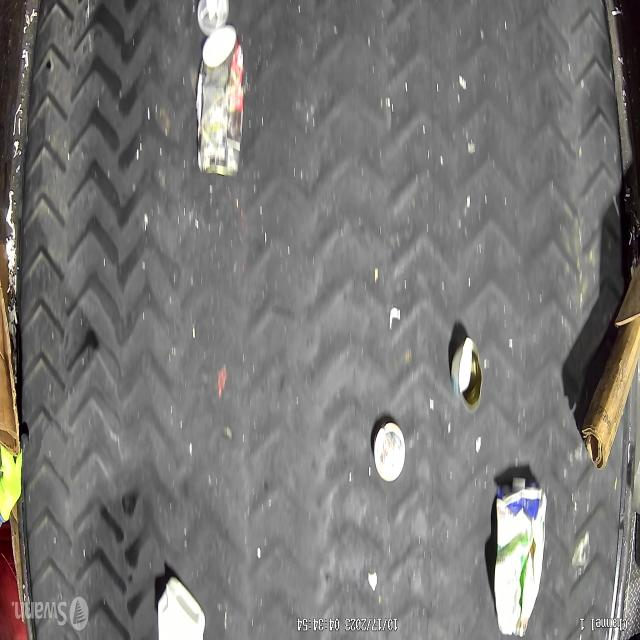can: (451, 334, 483, 415)
non_white_jug: (494, 477, 547, 638)
